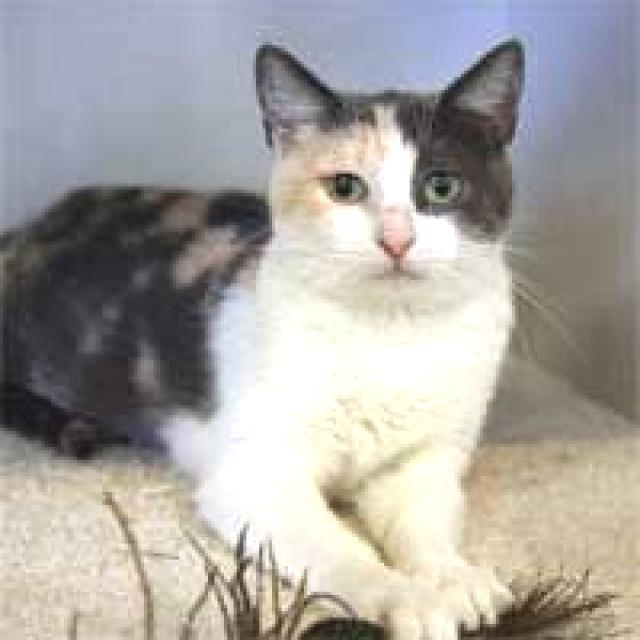Kucing: (0, 22, 609, 640)
